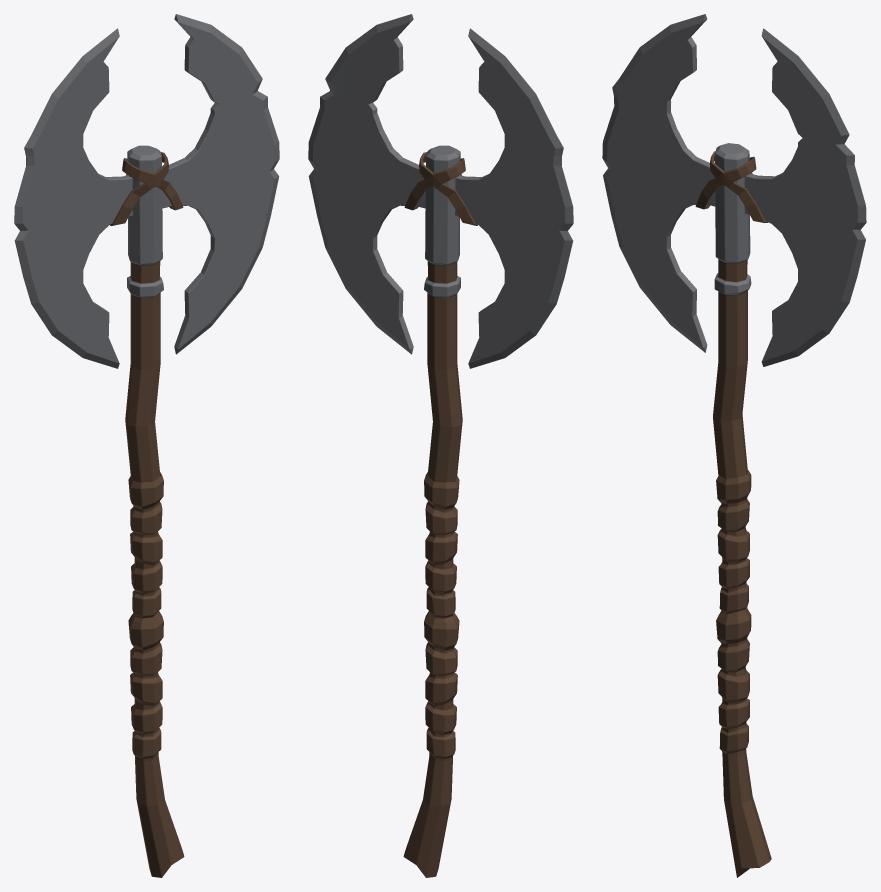
The model's file is axe_2.glb.
3 renders of one model, left to right at view 1: azimuth 30°, elevation 25°; view 2: azimuth 150°, elevation 25°; view 3: azimuth 330°, elevation 25°, orthographic.
Visible parts, largest first — view 1: axe_2; view 2: axe_2; view 3: axe_2.
Boxes of the visible parts, box(x1,y1,x2,y2) form: axe_2: box(14, 14, 279, 877); axe_2: box(308, 14, 573, 877); axe_2: box(602, 14, 866, 877).
Bounding box in the file's own units: 0.3566 × 1.1 × 0.0452.
